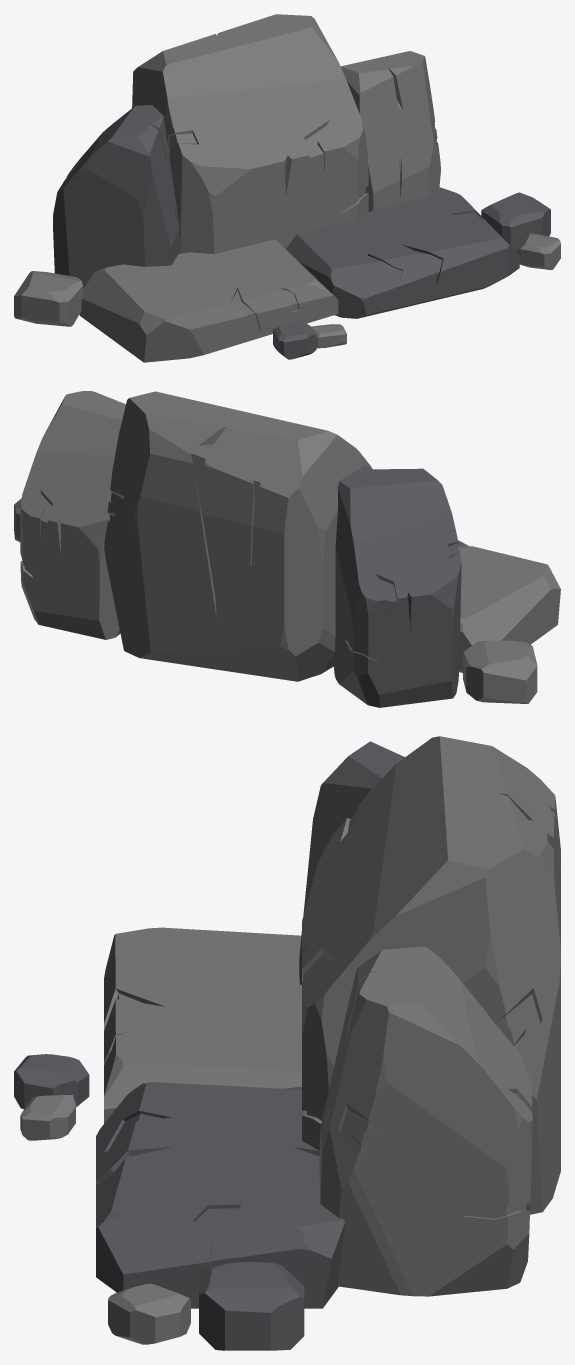
The model's file is rocks_03.glb.
3 views of the same model, one above another, from view 1: azimuth 30°, elevation 25°; view 2: azimuth 150°, elevation 25°; view 3: azimuth 270°, elevation 25° (orthographic). The views are drawn at different scales.
Visible parts, largest first — view 1: rocks_03; view 2: rocks_03; view 3: rocks_03.
Part boxes in pixels (x1,y1,x2,y2): rocks_03: [14, 14, 560, 362]; rocks_03: [14, 391, 560, 707]; rocks_03: [14, 736, 560, 1350].
Bounding box in the file's own units: 5.86 × 2.39 × 3.33.
Materials: 1 (1 with a texture image).
